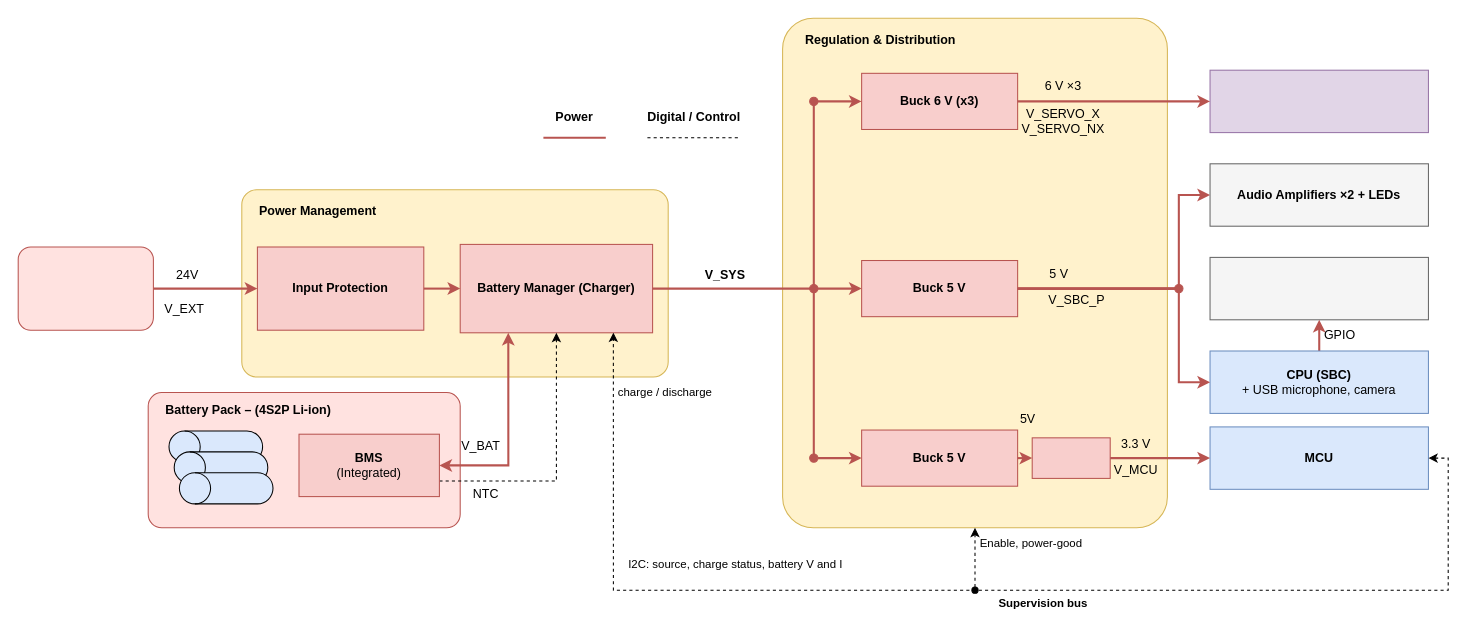
Image size: 1476x632. Some labels were removed from this diagram. The centre of each missing label's shape, as x and y in pixels:
External Supply: (x=85, y=288)
LCD Display 7″ Touch Display: (x=1318, y=288)
LDO 3.3 V: (x=1070, y=457)
Servo Bus Adapters ×3 10× Serial Bus Servos: (x=1318, y=101)
